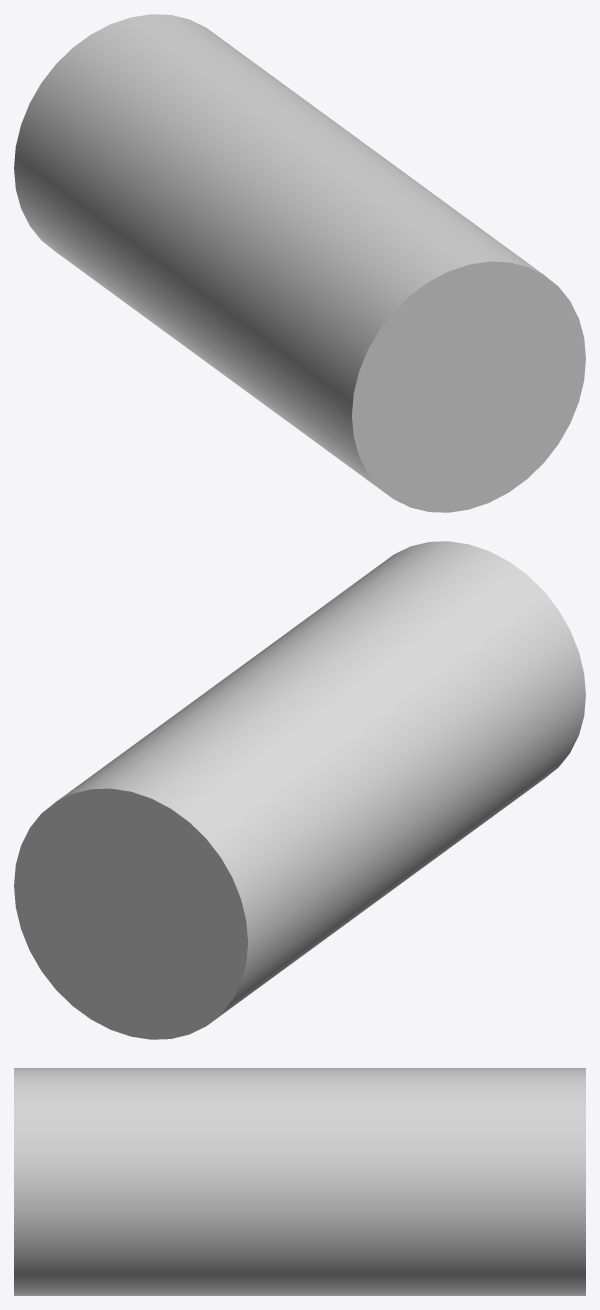
File: ph_fuselage.sturdy.gltf
3 views of the same model, one above another, from view 1: azimuth 30°, elevation 25°; view 2: azimuth 150°, elevation 25°; view 3: azimuth 270°, elevation 25° (orthographic). The views are drawn at different scales.
Visible parts, largest first — view 1: fuselage; view 2: fuselage; view 3: fuselage.
Part boxes in pixels (x1,y1,x2,y2): fuselage: (14,14,585,512); fuselage: (14,541,585,1039); fuselage: (14,1068,585,1295).
Size of the model in its own units: 2 by 2 by 5.
Materials: 1 (1 with a texture image).
